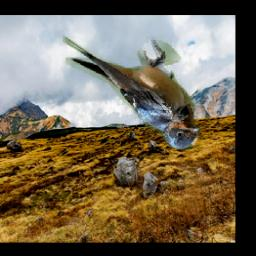Swallow: (64, 36, 201, 150)
